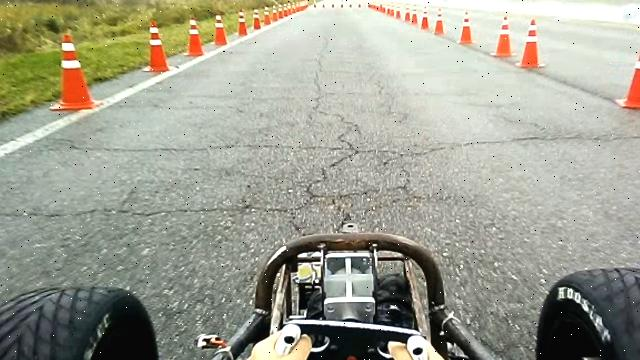red cone: (48, 33, 102, 111), (615, 31, 640, 110), (142, 19, 171, 72), (516, 18, 546, 69), (490, 16, 516, 57), (183, 15, 205, 57), (458, 11, 476, 44), (211, 13, 228, 46), (433, 8, 446, 36), (236, 8, 248, 36), (420, 5, 429, 33), (252, 8, 262, 30)
